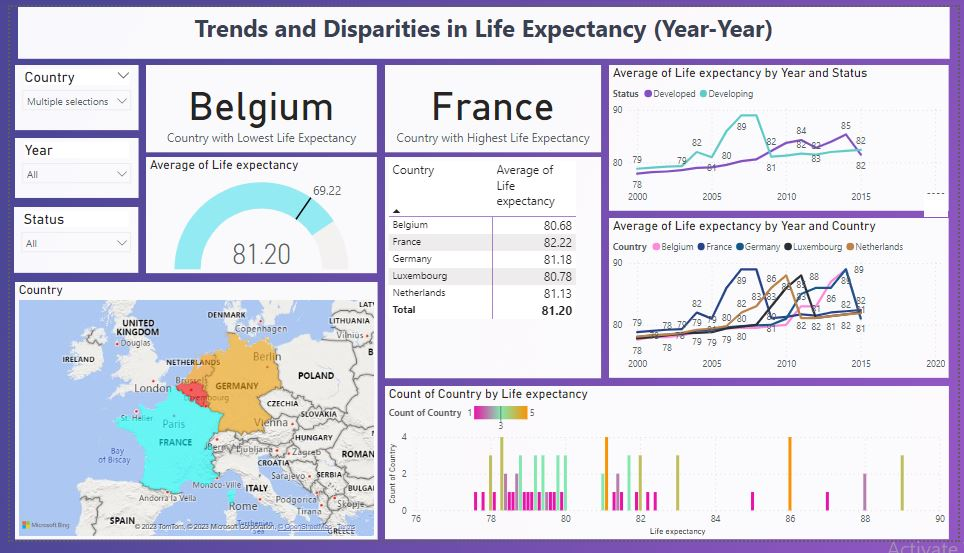

Layout of this report page (visuals, bound fields, positions):
{"tool":"powerbi","page":{"name":"Trends and Disparities","canvas":[1280,720],"ordinal":0},"visuals":[{"type":"textbox","box":[10.5,0,1259,70.1],"z":0},{"type":"slicer","fields":{"Values":["Life Expectancy Data.Country"]},"box":[7.2,77.8,167,87.8],"z":1000},{"type":"slicer","fields":{"Values":["Life Expectancy Data.Year"]},"box":[7.2,177.1,167,80.6],"z":2000},{"type":"slicer","fields":{"Values":["Life Expectancy Data.Status"]},"box":[5.8,270.7,168.5,89.3],"z":3000},{"type":"filledMap","fields":{"Category":["Life Expectancy Data.Country"]},"box":[7.2,371.5,489.6,348.5],"z":4000},{"type":"lineChart","fields":{"Category":["Life Expectancy Data.Year"],"Y":["Avg(Life Expectancy Data.Life expectancy )"],"Series":["Life Expectancy Data.Status"]},"box":[809.3,77.8,459.4,197.3],"z":5000},{"type":"lineChart","fields":{"Category":["Life Expectancy Data.Year"],"Y":["Avg(Life Expectancy Data.Life expectancy )"],"Series":["Life Expectancy Data.Country"]},"box":[809.3,285.1,459.4,216],"z":6000},{"type":"columnChart","fields":{"Y":["Count(Life Expectancy Data.Country)"],"Category":["Life Expectancy Data.Life expectancy "]},"box":[506.9,512.6,761.8,207.4],"z":7000},{"type":"gauge","fields":{"Y":["Avg(Life Expectancy Data.Life expectancy )"]},"box":[184.3,203,312.5,157],"z":8000},{"type":"card","fields":{"Values":["Life Expectancy Data.Country with Highest Life Expectancy"]},"box":[506.9,77.8,292.3,118.1],"z":9000},{"type":"card","fields":{"Values":["Life Expectancy Data.Country with Lowest Life Expectancy"]},"box":[184.3,77.8,312.5,118.1],"z":10000},{"type":"pivotTable","fields":{"Rows":["Life Expectancy Data.Country"],"Values":["Avg(Life Expectancy Data.Life expectancy )"]},"box":[506.7,202.7,292,298.7],"z":11000}]}

Visuals, with their boxes in screenshot pixels (x1, y1, x2, y2), scaled from the page's 1280x720 canvas onto the 964x553 screenshot:
textbox: bbox=(8, 0, 956, 54)
slicer - Life Expectancy Data.Country: bbox=(5, 60, 131, 127)
slicer - Life Expectancy Data.Year: bbox=(5, 136, 131, 198)
slicer - Life Expectancy Data.Status: bbox=(4, 208, 131, 276)
filledMap - Life Expectancy Data.Country: bbox=(5, 285, 374, 552)
lineChart - Life Expectancy Data.Year x Avg(Life Expectancy Data.Life expectancy ): bbox=(610, 60, 955, 211)
lineChart - Life Expectancy Data.Year x Avg(Life Expectancy Data.Life expectancy ): bbox=(610, 219, 955, 385)
columnChart - Count(Life Expectancy Data.Country) x Life Expectancy Data.Life expectancy : bbox=(382, 394, 955, 552)
gauge - Avg(Life Expectancy Data.Life expectancy ): bbox=(139, 156, 374, 276)
card - Life Expectancy Data.Country with Highest Life Expectancy: bbox=(382, 60, 602, 150)
card - Life Expectancy Data.Country with Lowest Life Expectancy: bbox=(139, 60, 374, 150)
pivotTable - Life Expectancy Data.Country x Avg(Life Expectancy Data.Life expectancy ): bbox=(382, 156, 602, 385)
